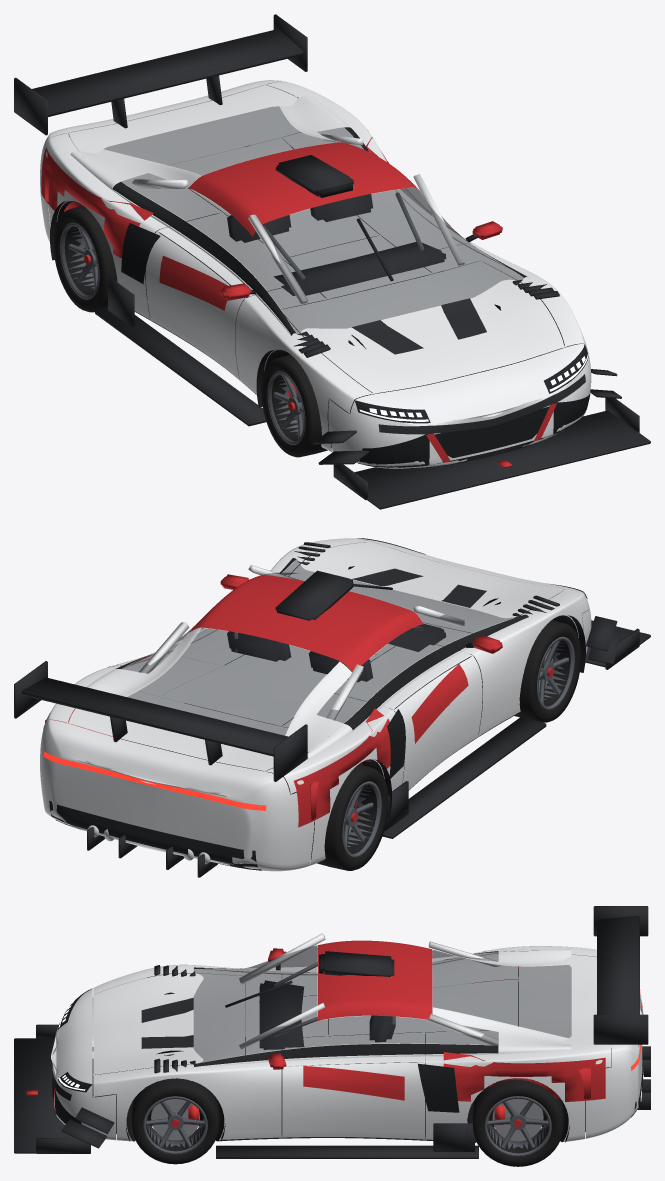
File: tornado_gt3_hero.glb
3 views of the same model, one above another, from view 1: azimuth 30°, elevation 25°; view 2: azimuth 150°, elevation 25°; view 3: azimuth 270°, elevation 25° (orthographic). The views are drawn at different scales.
Parts seen in each view (by area): view 1: glass, hood, bumper_front, trunk, gt3_splitter_blade, roof, wing, fender_R, door_R, quarter_R, deck, gt3_skirt_R (+33 smaller); view 2: bumper_rear, glass, roof, hood, deck, wing, fender_R, door_R, trunk, quarter_R, gt3_skirt_R, pillars (+31 smaller); view 3: glass, hood, door_L, fender_L, roof, trunk, quarter_L, deck, gt3_splitter_blade, bumper_front, wing, gt3_livery_rear_L (+36 smaller).
Part boxes in pixels (x1,y1,x2,y2): glass: (104, 106, 523, 334); hood: (281, 261, 564, 393); bumper_front: (328, 343, 591, 468); trunk: (68, 85, 300, 176); gt3_splitter_blade: (354, 410, 650, 509); roof: (188, 142, 419, 236); wing: (32, 29, 302, 116); fender_R: (235, 288, 373, 452); door_R: (146, 231, 244, 380); quarter_R: (42, 133, 221, 319); deck: (168, 138, 379, 258); gt3_skirt_R: (95, 308, 266, 426); bumper_rear: (40, 720, 314, 871); glass: (122, 559, 519, 735); roof: (188, 575, 423, 671); hood: (289, 542, 563, 632); deck: (160, 644, 379, 725); wing: (21, 677, 288, 756); fender_R: (432, 589, 588, 736); door_R: (393, 655, 482, 790); trunk: (68, 691, 328, 771); quarter_R: (265, 693, 404, 866); gt3_skirt_R: (382, 717, 546, 838); pillars: (91, 628, 351, 751); glass: (194, 945, 571, 1063); hood: (93, 973, 244, 1074); door_L: (282, 1062, 425, 1139); fender_L: (93, 1041, 281, 1141); roof: (317, 940, 432, 1020); trunk: (519, 954, 596, 1046); quarter_L: (425, 1030, 611, 1141); deck: (328, 979, 518, 1035); gt3_splitter_blade: (14, 1038, 74, 1153); bumper_front: (51, 988, 116, 1140); wing: (597, 915, 639, 1014); gt3_livery_rear_L: (443, 1052, 605, 1101).
Bounding box in the file's own units: 2.26 × 1.28 × 4.89.
